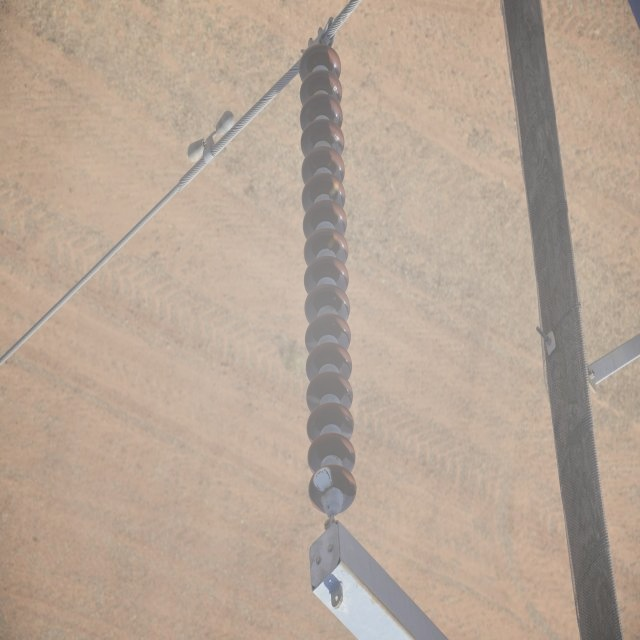insulator: (296, 46, 356, 514)
